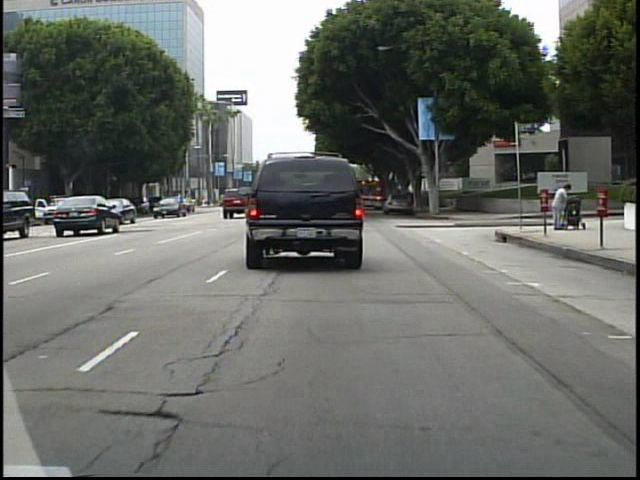person: (549, 179, 571, 233)
